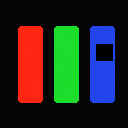1 square: (96, 44, 112, 60)
